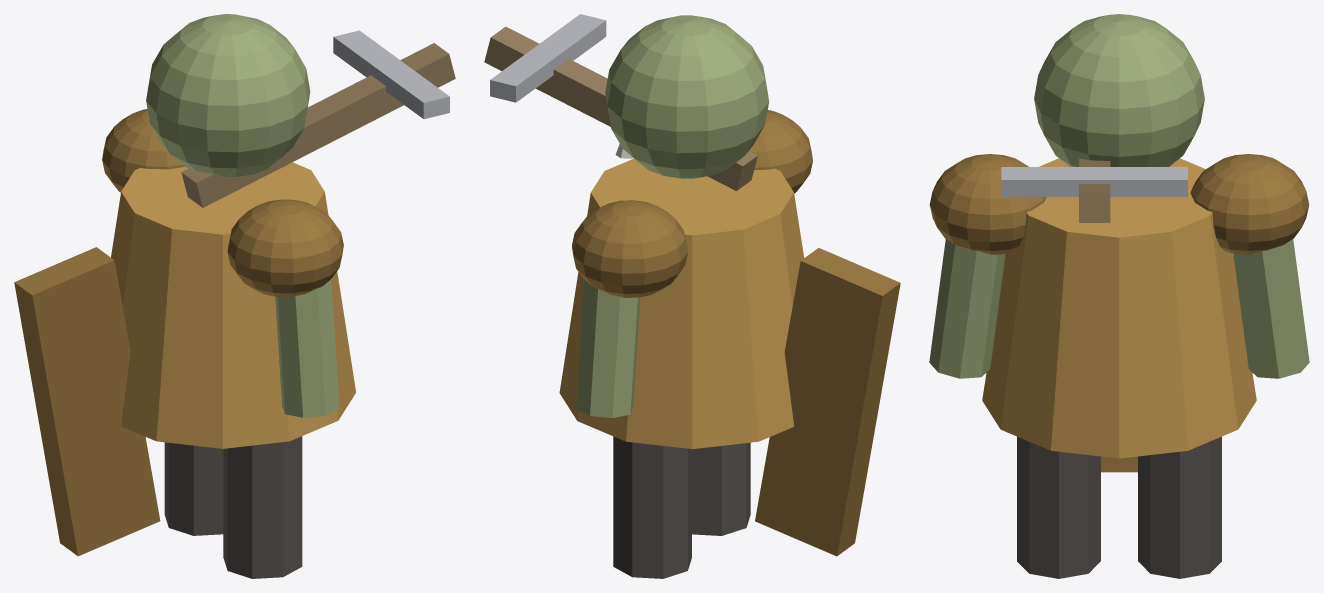
File: hero_durgar_2.glb
3 renders of one model, left to right at view 1: azimuth 30°, elevation 25°; view 2: azimuth 150°, elevation 25°; view 3: azimuth 270°, elevation 25°, orthographic. The views are drawn at different scales.
Visible parts, largest first — view 1: figurka; view 2: figurka; view 3: figurka.
Boxes of the visible parts, x1=… form: figurka: x1=14, y1=14, x2=455, y2=578; figurka: x1=484, y1=14, x2=900, y2=578; figurka: x1=929, y1=14, x2=1309, y2=578.
Size of the model in its own units: 0.7911 by 0.954 by 0.6121.
